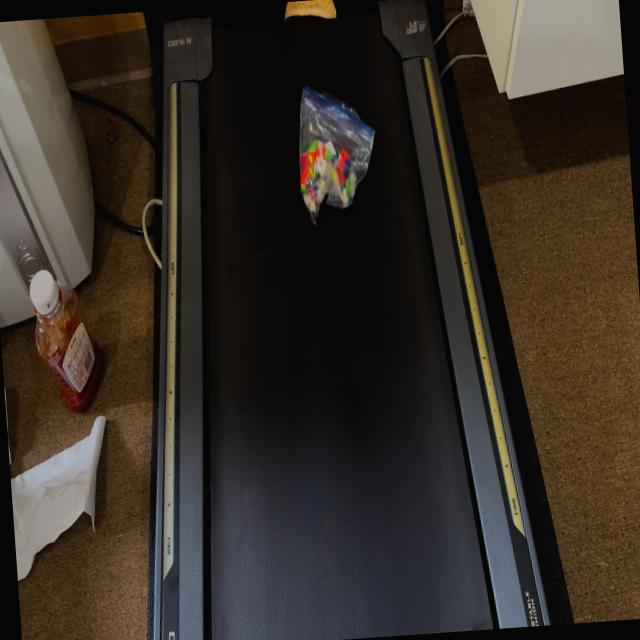Trash: (293, 81, 382, 226)
